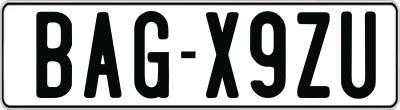9: (247, 11, 286, 100)
A: (84, 11, 121, 101)
B: (36, 12, 75, 104)
G: (132, 11, 170, 101)
U: (339, 10, 374, 100)
X: (203, 12, 238, 103)
Z: (296, 11, 333, 103)
